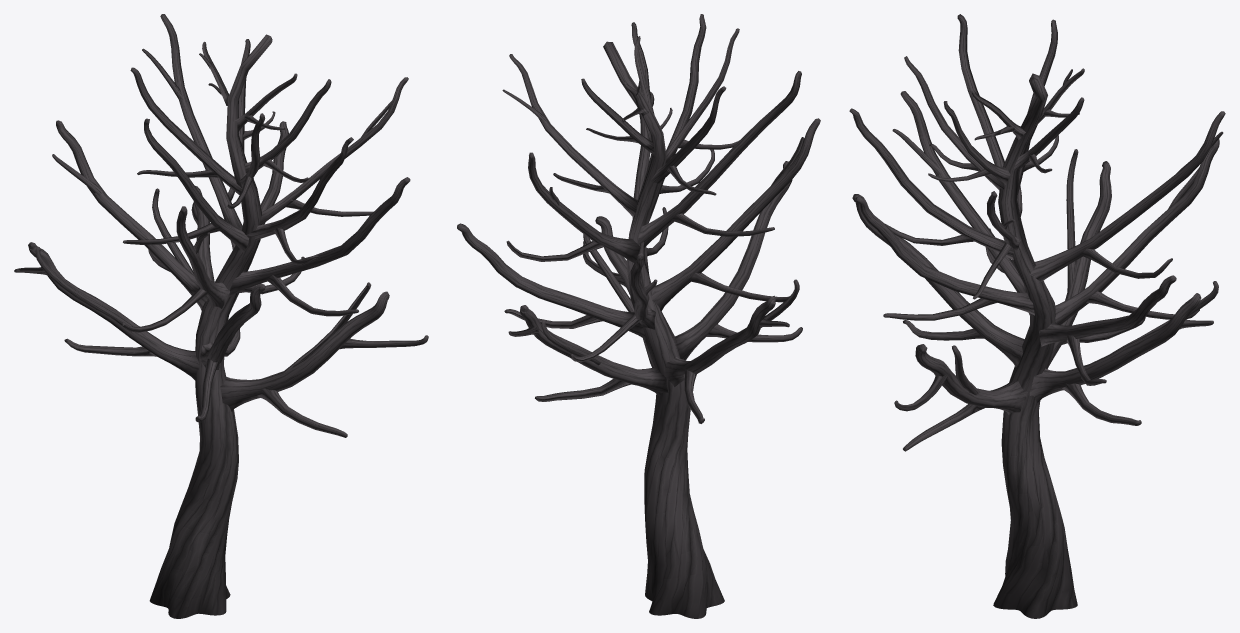
File: tree-dead-2.glb
3 renders of one model, left to right at view 1: azimuth 30°, elevation 25°; view 2: azimuth 150°, elevation 25°; view 3: azimuth 270°, elevation 25°, orthographic. The views are drawn at different scales.
Visible parts, largest first — view 1: DeadTree_1; view 2: DeadTree_1; view 3: DeadTree_1.
Boxes of the visible parts, left/top/right/bottom form: DeadTree_1: left=14, top=14, right=428, bottom=618; DeadTree_1: left=457, top=14, right=820, bottom=618; DeadTree_1: left=849, top=14, right=1225, bottom=618.
Size of the model in its own units: 6.15 by 9.5 by 5.75.
1 material, 1 textured.
